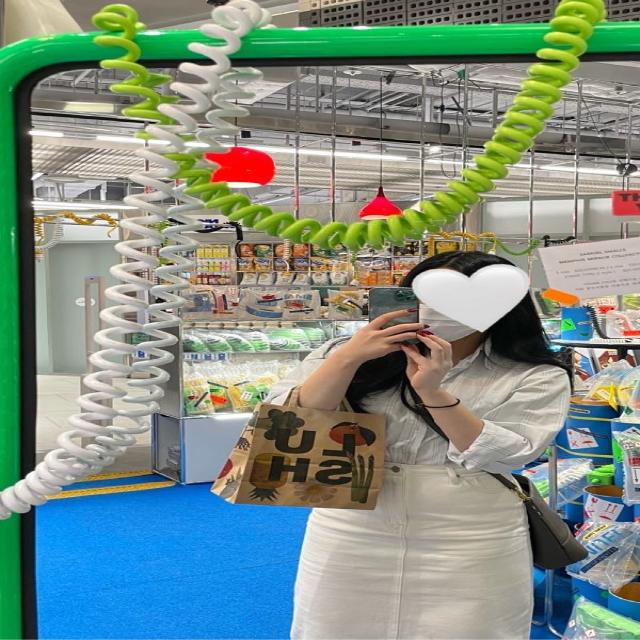shirt: (281, 325, 562, 474)
skirt: (291, 459, 529, 640)
